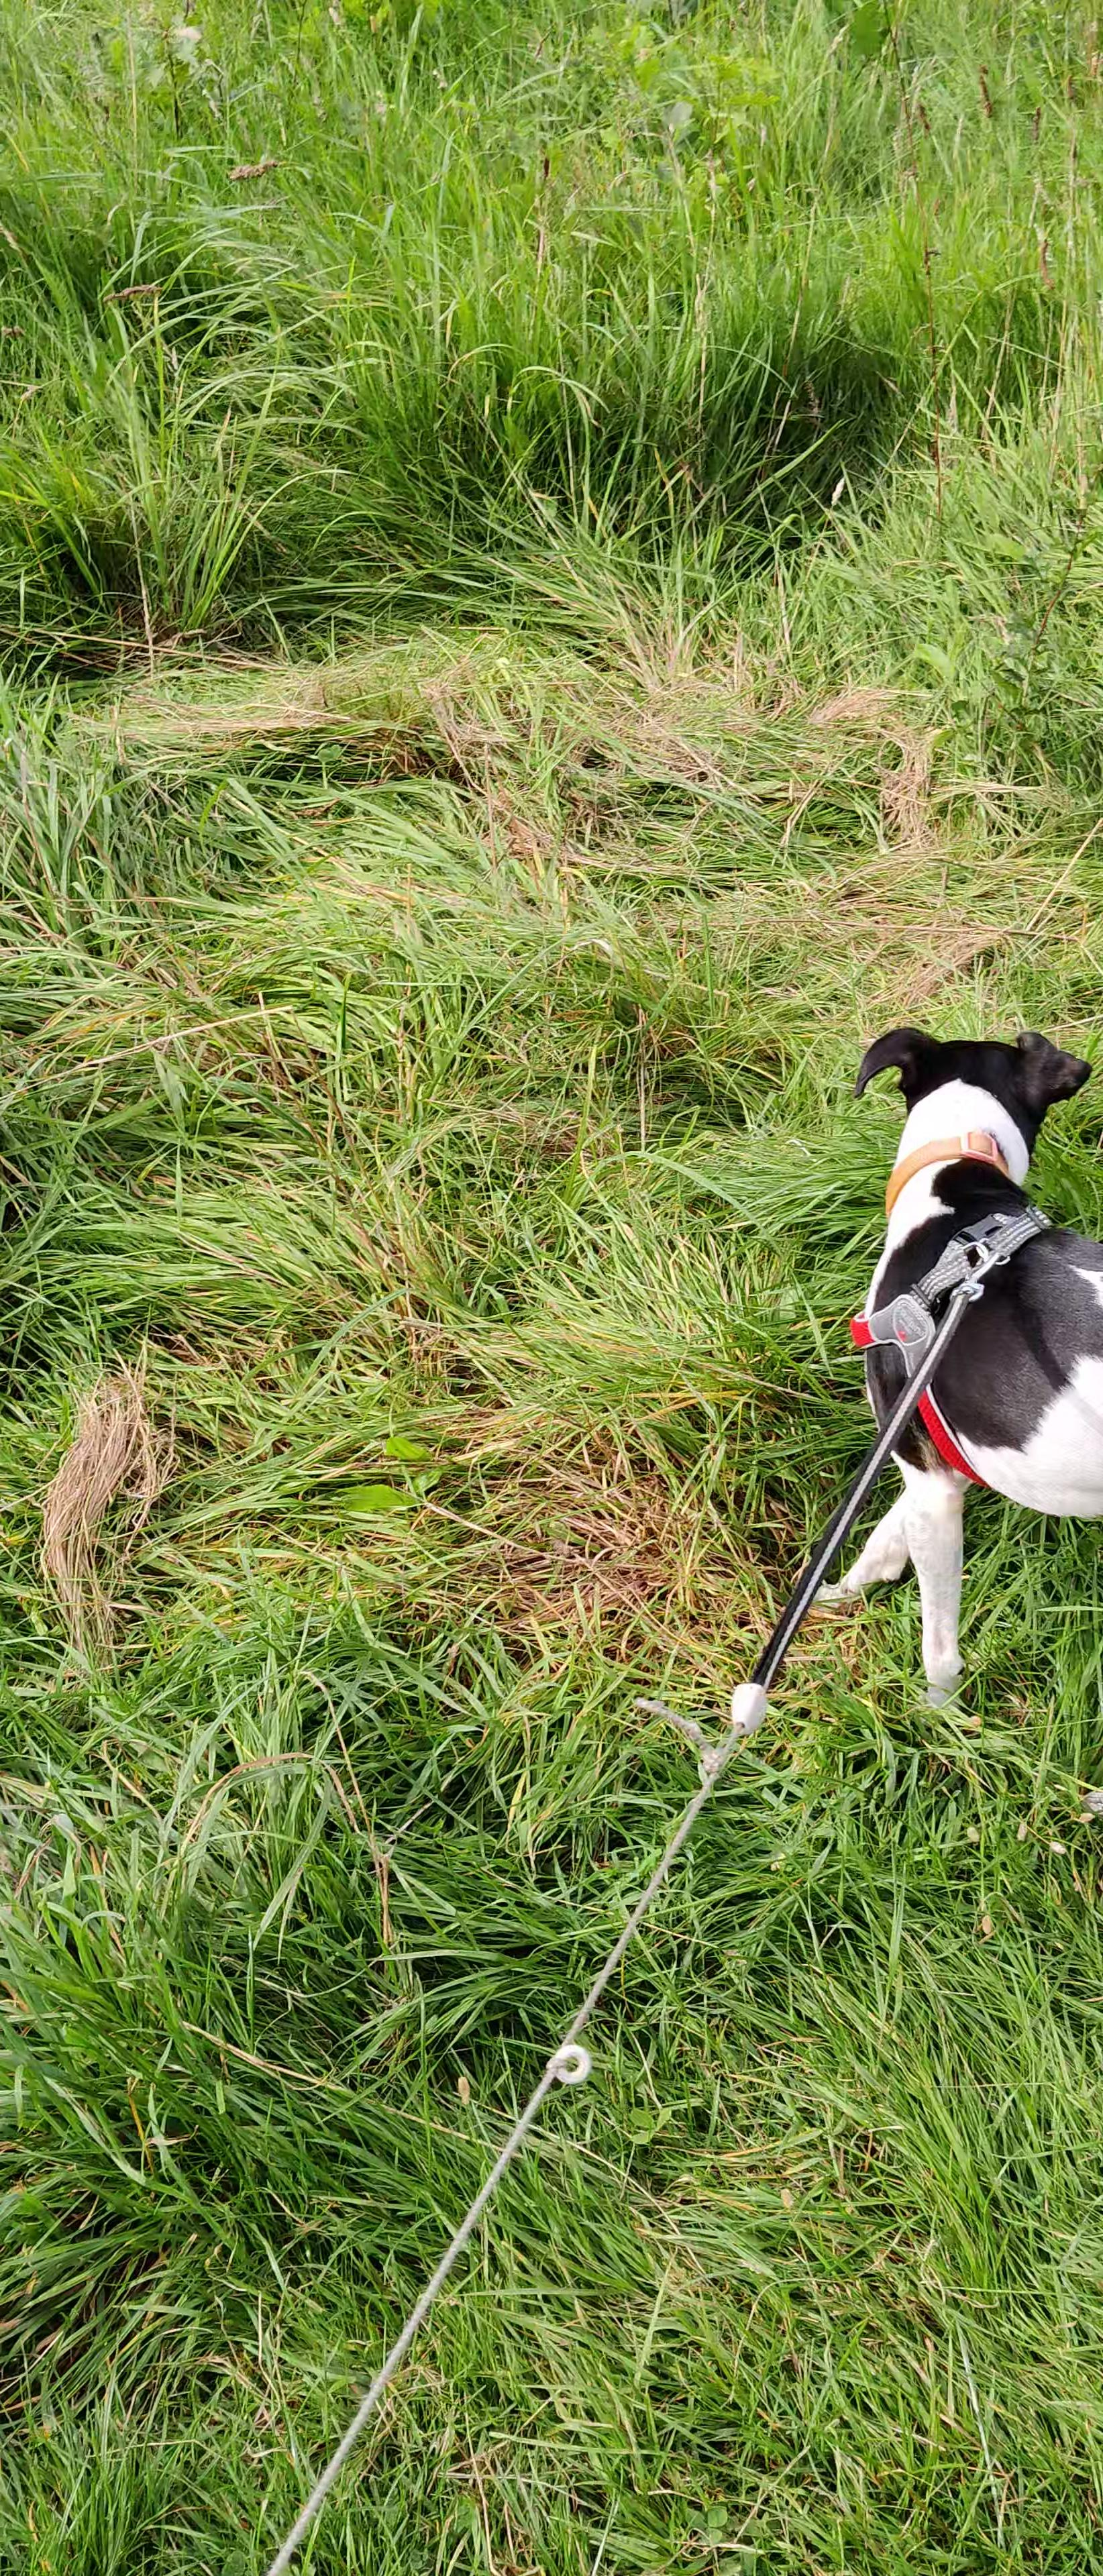Dog: (781, 992, 1103, 1748)
